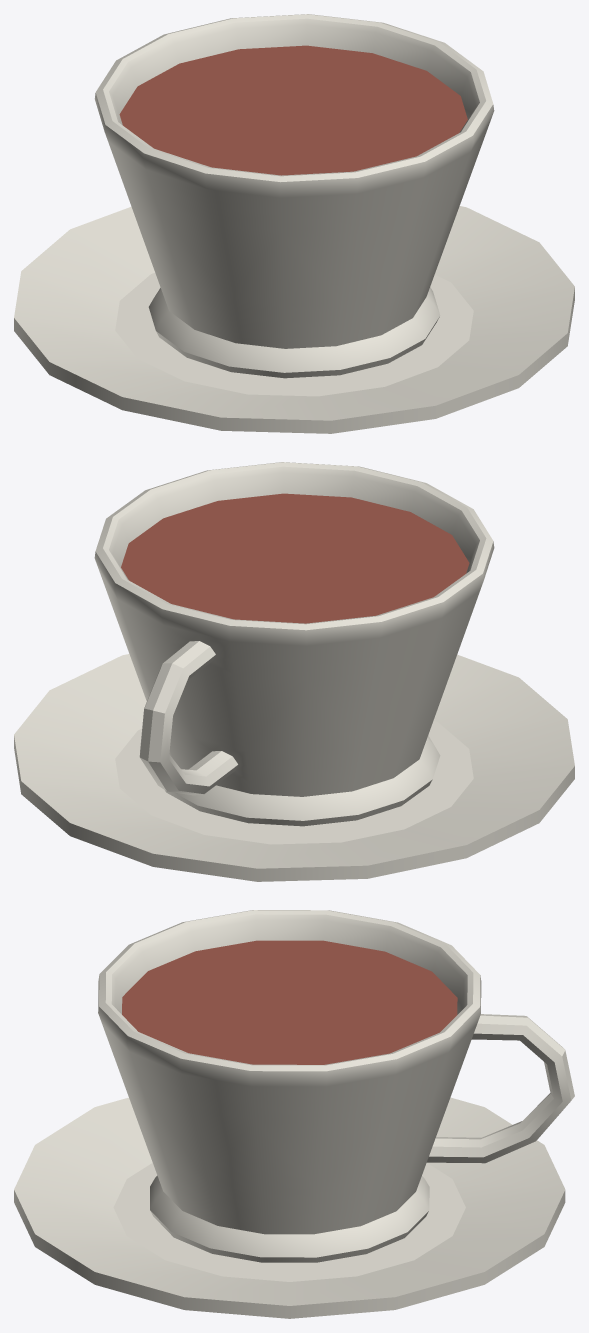
The model's file is mug.normal.fbx.
3 views of the same model, one above another, from view 1: azimuth 30°, elevation 25°; view 2: azimuth 150°, elevation 25°; view 3: azimuth 270°, elevation 25° (orthographic). The views are drawn at different scales.
Parts seen in each view (by area): view 1: plate; view 2: plate; view 3: plate.
Boxes of the visible parts, x1,y1,x2,y2 form: plate: [14, 14, 574, 433]; plate: [14, 462, 574, 881]; plate: [14, 910, 574, 1318].
Bounding box in the file's own units: 32 × 15.4 × 32.55.
